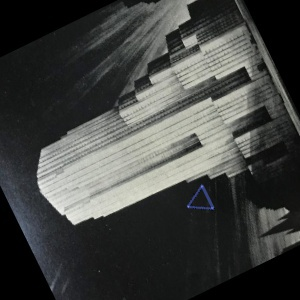triangle: (185, 182, 216, 213)
